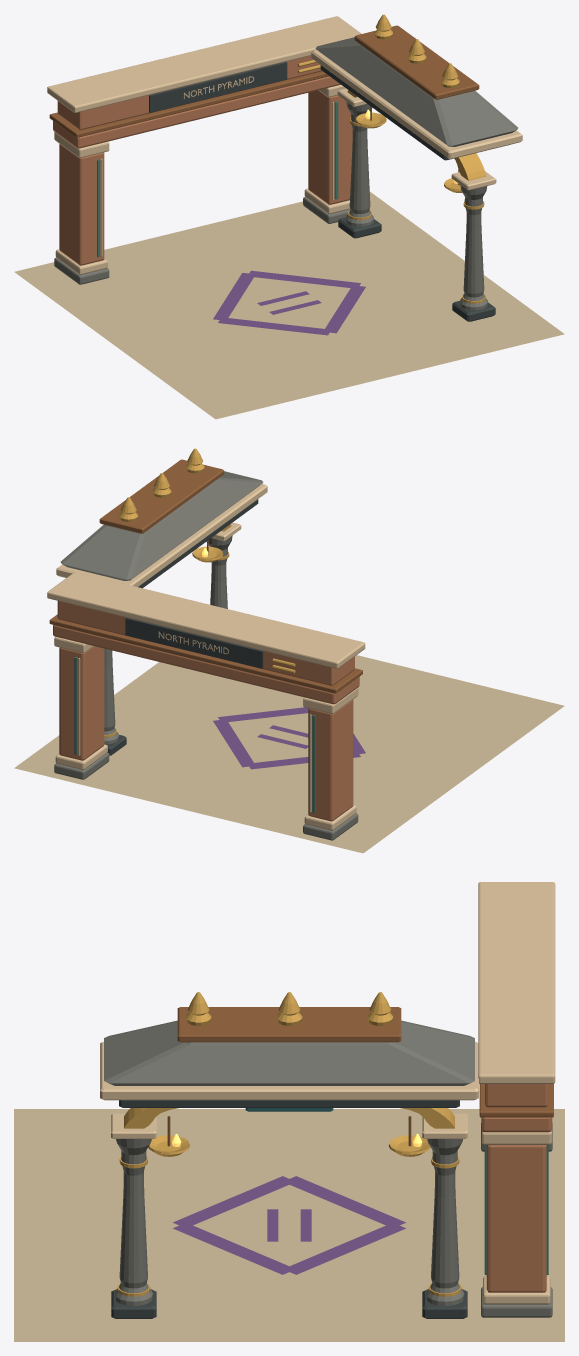
File: room-temple_n.glb
3 renders of one model, top to bottom at view 1: azimuth 30°, elevation 25°; view 2: azimuth 150°, elevation 25°; view 3: azimuth 270°, elevation 25°, orthographic. The views are drawn at different scales.
Parts seen in each view (by area): view 1: Surveyed floor · room-temple_n, North Temple · double-bar lintel · granite, Shelter drip mould.002, Fold post.005, Fold post.004, North Temple · double-bar lintel · bronze, North Temple · double-bar lintel · limestone, Open passage transom.002, Destination tablet.005, North Temple · double-bar lintel · brass, Fold sign fascia.002, Bronze lintel return.002 (+4 smaller); view 2: Surveyed floor · room-temple_n, Shelter drip mould.002, North Temple · double-bar lintel · granite, Fold post.005, Fold post.004, Open passage transom.002, North Temple · double-bar lintel · bronze, Fold sign fascia.002, Destination tablet.004, Bronze lintel return.002, North Temple · double-bar lintel · limestone, North Temple · double-bar lintel · brass (+6 smaller); view 3: Surveyed floor · room-temple_n, North Temple · double-bar lintel · granite, Shelter drip mould.002, Fold post.004, North Temple · double-bar lintel · limestone, North Temple · double-bar lintel · bronze, North Temple · double-bar lintel · brass, North Temple · double-bar lintel · basalt, Fold sign fascia.002, Open passage transom.002, Bronze lintel return.002, Fold post shoe.004 (+2 smaller).
Part boxes in pixels (<box>): Surveyed floor · room-temple_n: <box>14,191,564,419</box>; North Temple · double-bar lintel · granite: <box>315,37,518,310</box>; Shelter drip mould.002: <box>47,16,361,112</box>; Fold post.005: <box>59,144,104,265</box>; Fold post.004: <box>308,90,352,204</box>; North Temple · double-bar lintel · bronze: <box>354,25,479,185</box>; North Temple · double-bar lintel · limestone: <box>311,50,522,190</box>; Open passage transom.002: <box>53,76,340,148</box>; Destination tablet.005: <box>149,61,287,112</box>; North Temple · double-bar lintel · brass: <box>347,14,486,303</box>; Fold sign fascia.002: <box>57,55,322,129</box>; Bronze lintel return.002: <box>49,71,329,137</box>; Surveyed floor · room-temple_n: <box>14,655,564,853</box>; Shelter drip mould.002: <box>47,572,365,668</box>; North Temple · double-bar lintel · granite: <box>60,471,263,744</box>; Fold post.005: <box>308,699,353,821</box>; Fold post.004: <box>59,646,104,760</box>; Open passage transom.002: <box>53,625,359,704</box>; North Temple · double-bar lintel · bronze: <box>99,459,224,554</box>; Fold sign fascia.002: <box>57,601,354,685</box>; Destination tablet.004: <box>125,617,263,668</box>; Bronze lintel return.002: <box>49,614,362,693</box>; North Temple · double-bar lintel · limestone: <box>56,484,267,586</box>; North Temple · double-bar lintel · brass: <box>104,448,231,737</box>; Surveyed floor · room-temple_n: <box>14,1109,564,1341</box>; North Temple · double-bar lintel · granite: <box>104,1020,474,1305</box>; Shelter drip mould.002: <box>478,882,555,1083</box>; Fold post.004: <box>486,1145,546,1292</box>; North Temple · double-bar lintel · limestone: <box>100,1041,478,1138</box>; North Temple · double-bar lintel · bronze: <box>167,1007,411,1146</box>; North Temple · double-bar lintel · brass: <box>117,992,461,1296</box>; North Temple · double-bar lintel · basalt: <box>111,1100,467,1318</box>; Fold sign fascia.002: <box>485,1084,548,1107</box>; Open passage transom.002: <box>481,1117,552,1132</box>; Bronze lintel return.002: <box>479,1084,553,1117</box>; Fold post shoe.004: <box>481,1287,552,1317</box>.
Bounding box in the file's own units: 8 × 5.09 × 8.
